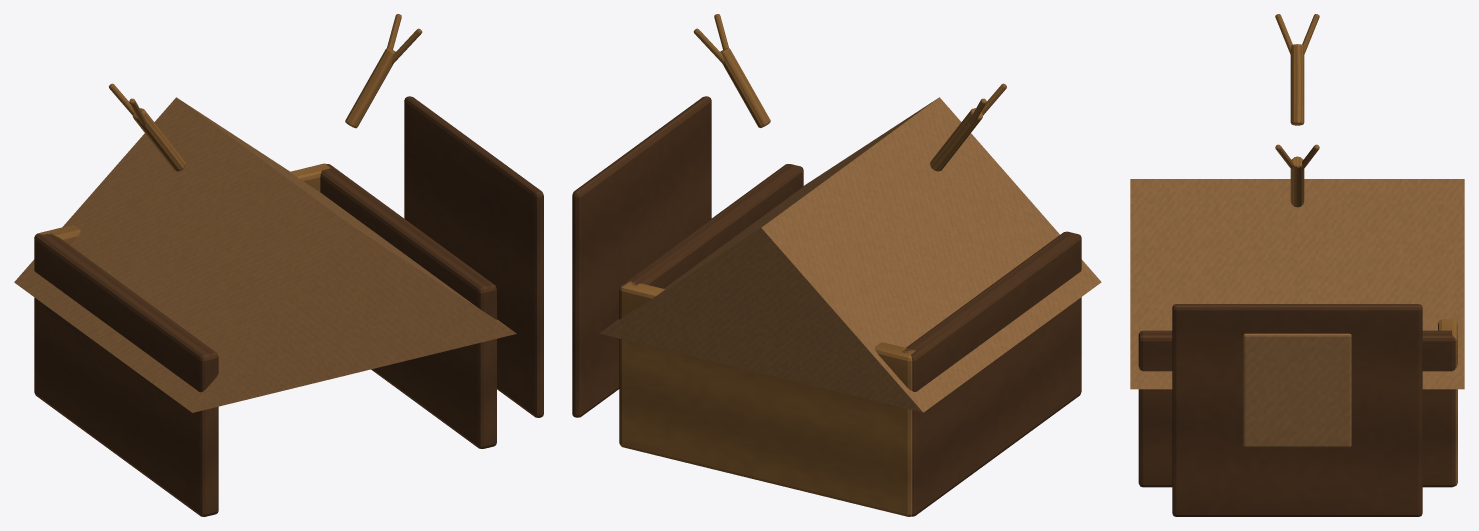
File: hunting.glb
3 renders of one model, left to right at view 1: azimuth 30°, elevation 25°; view 2: azimuth 150°, elevation 25°; view 3: azimuth 270°, elevation 25°, orthographic. The views are drawn at different scales.
Parts seen in each view (by area): view 1: hunting_lodge, timber_wall, drying_rack, timber_wall.001, antler.001, antler, back_wall; view 2: hunting_lodge, back_wall, timber_wall, drying_rack, timber_wall.001, antler.001, antler; view 3: hunting_lodge, drying_rack, hide, timber_wall.001, antler, antler.001, back_wall.
Boxes of the visible parts, left/top/right/bottom form: hunting_lodge: left=14, top=97, right=516, bottom=412; timber_wall: left=34, top=233, right=218, bottom=516; drying_rack: left=404, top=96, right=543, bottom=417; timber_wall.001: left=320, top=164, right=496, bottom=448; antler.001: left=345, top=48, right=395, bottom=128; antler: left=132, top=108, right=185, bottom=171; back_wall: left=35, top=163, right=330, bottom=244; hunting_lodge: left=599, top=97, right=1101, bottom=412; back_wall: left=620, top=281, right=915, bottom=516; timber_wall: left=902, top=231, right=1081, bottom=516; drying_rack: left=572, top=96, right=711, bottom=417; timber_wall.001: left=619, top=164, right=803, bottom=443; antler.001: left=720, top=48, right=770, bottom=127; antler: left=930, top=108, right=982, bottom=171; hunting_lodge: left=1130, top=179, right=1464, bottom=389; drying_rack: left=1172, top=304, right=1422, bottom=516; hide: left=1243, top=333, right=1351, bottom=447; timber_wall.001: left=1138, top=330, right=1455, bottom=487; antler: left=1290, top=44, right=1304, bottom=125; antler.001: left=1290, top=156, right=1304, bottom=207; back_wall: left=1438, top=319, right=1457, bottom=485.
Bounding box in the file's own units: 2.45 × 2.26 × 2.
3 materials, 3 textured.
